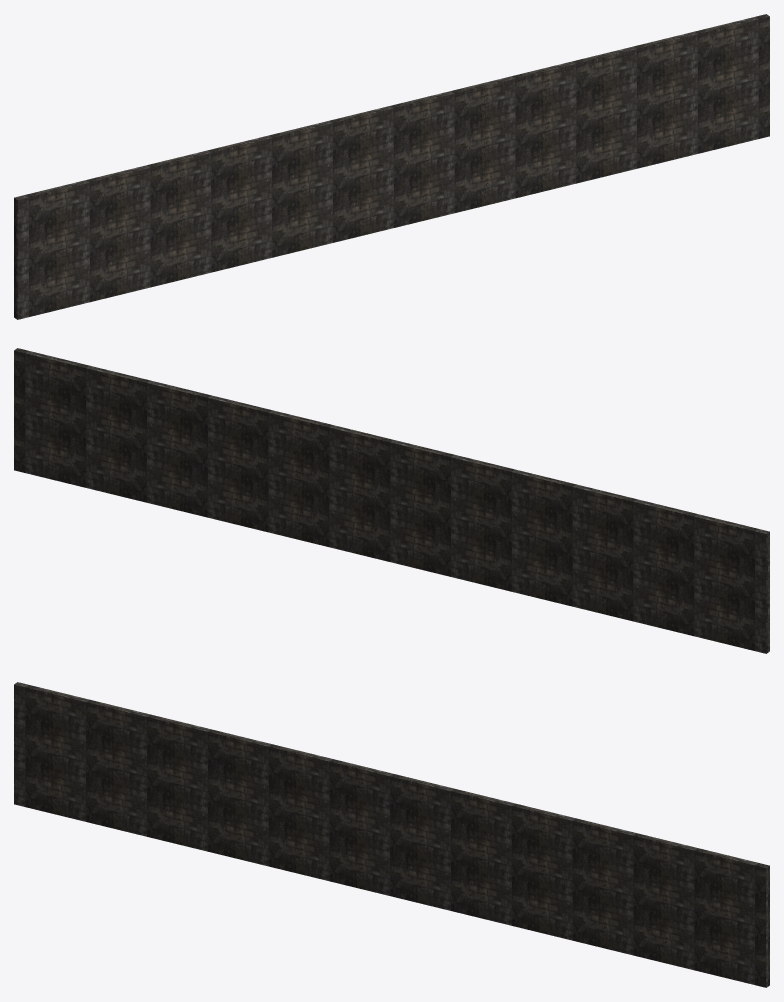
The model's file is Wall.fbx.
3 renders of one model, top to bottom at view 1: azimuth 30°, elevation 25°; view 2: azimuth 150°, elevation 25°; view 3: azimuth 330°, elevation 25°, orthographic.
Visible parts, largest first — view 1: Wall; view 2: Wall; view 3: Wall.
Part boxes in pixels (x1=…): Wall: x1=14, y1=14, x2=769, y2=319; Wall: x1=14, y1=348, x2=769, y2=653; Wall: x1=14, y1=682, x2=769, y2=987.
Size of the model in its own units: 24.75 by 3.77 by 0.2297.
Materials: 1 (1 with a texture image).
